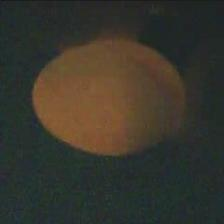fertile: (31, 36, 190, 159)
